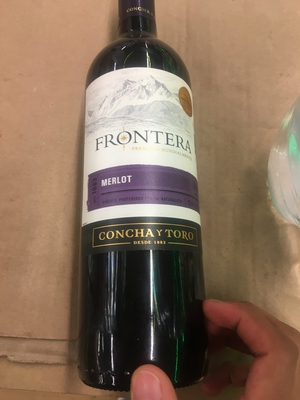frontera merlot: (84, 4, 204, 375)
